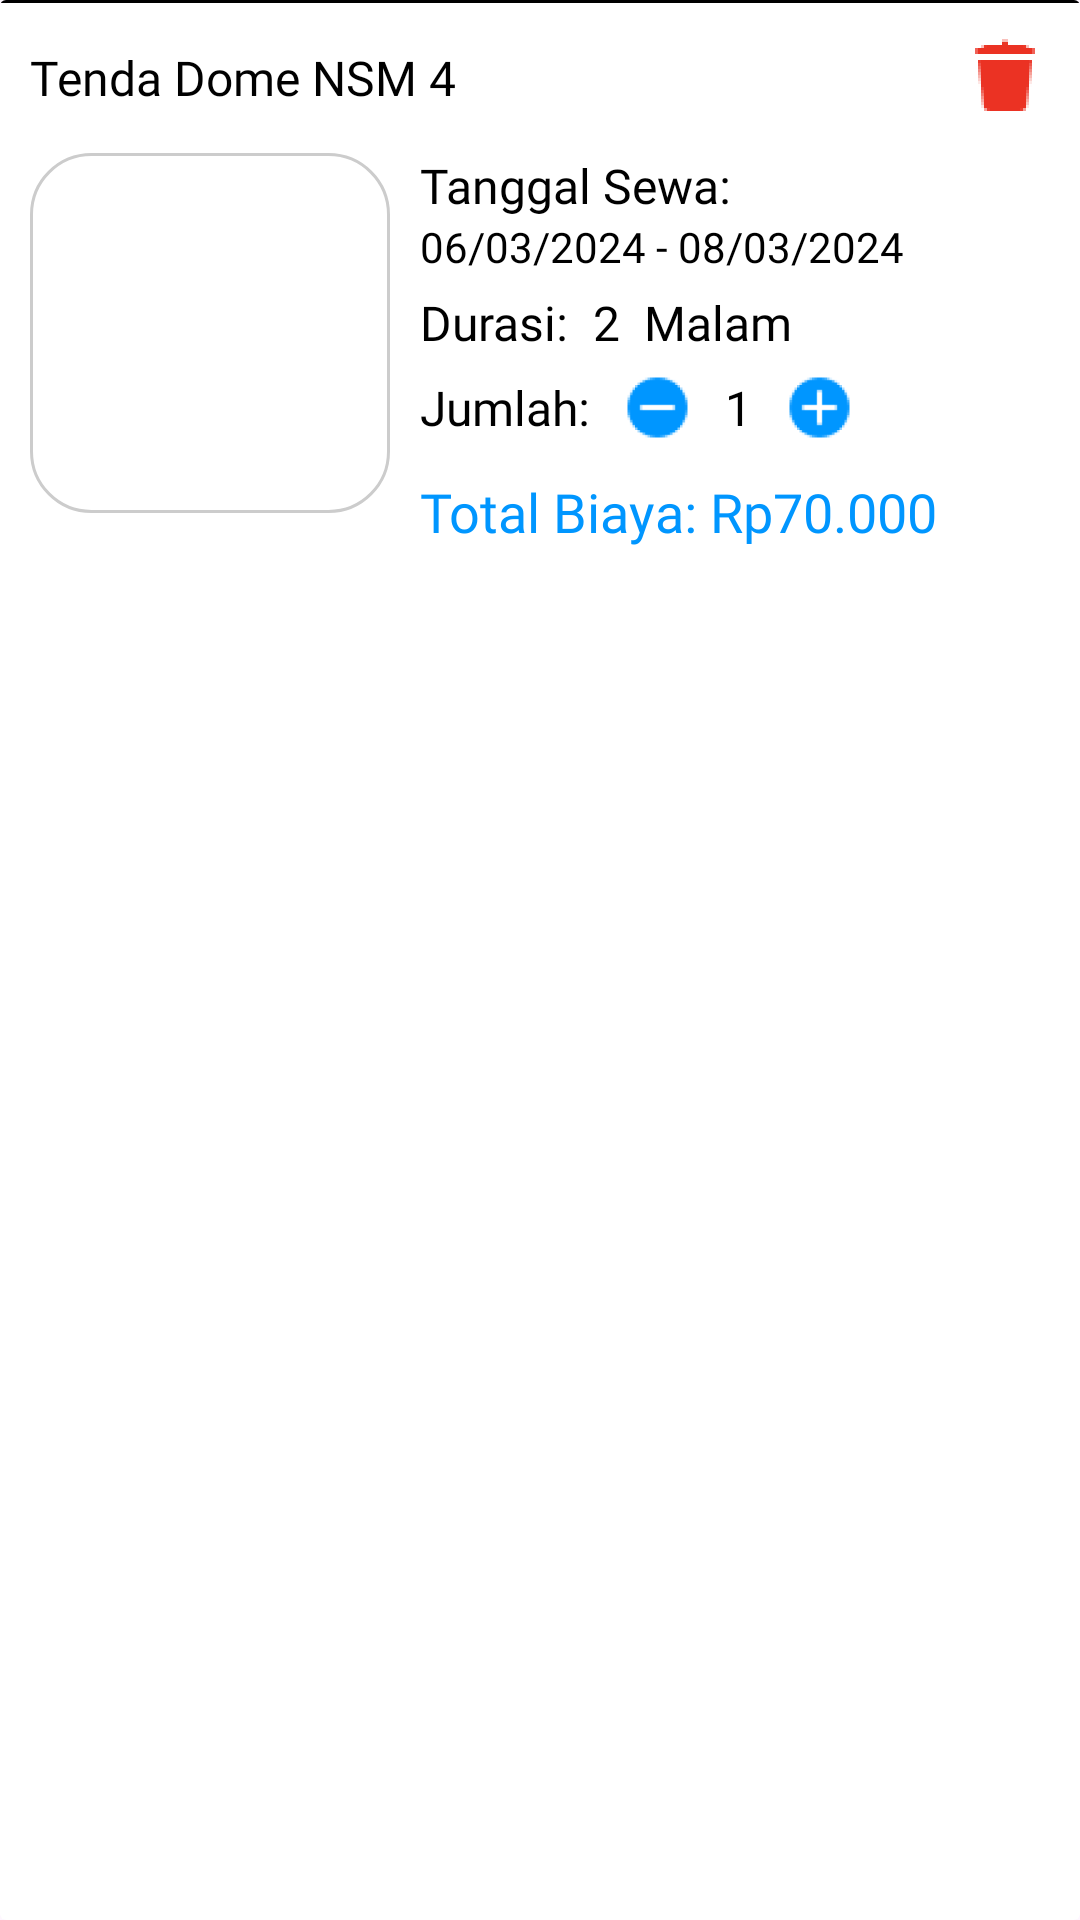

Screen size 1080x1920. Icon name, then its box in pixels as (x1, y1, x2, y2):
delete: (975, 39, 1035, 111)
minus: (627, 377, 688, 438)
plus: (789, 377, 850, 438)
